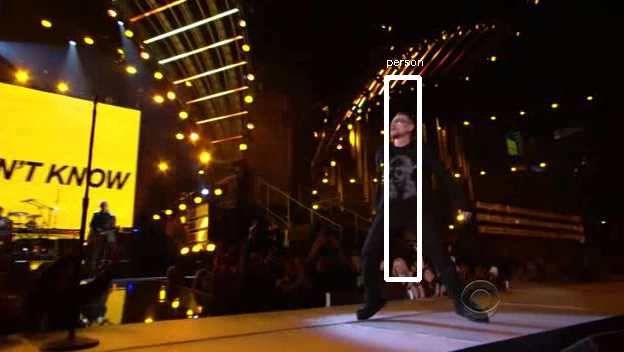person: (369, 112, 438, 227), (366, 112, 435, 227), (372, 112, 441, 227), (369, 109, 438, 224), (369, 115, 438, 230)
target_negative: (521, 126, 605, 323), (136, 63, 455, 112), (547, 168, 606, 350), (247, 18, 283, 217), (230, 117, 276, 196), (609, 9, 619, 274)
